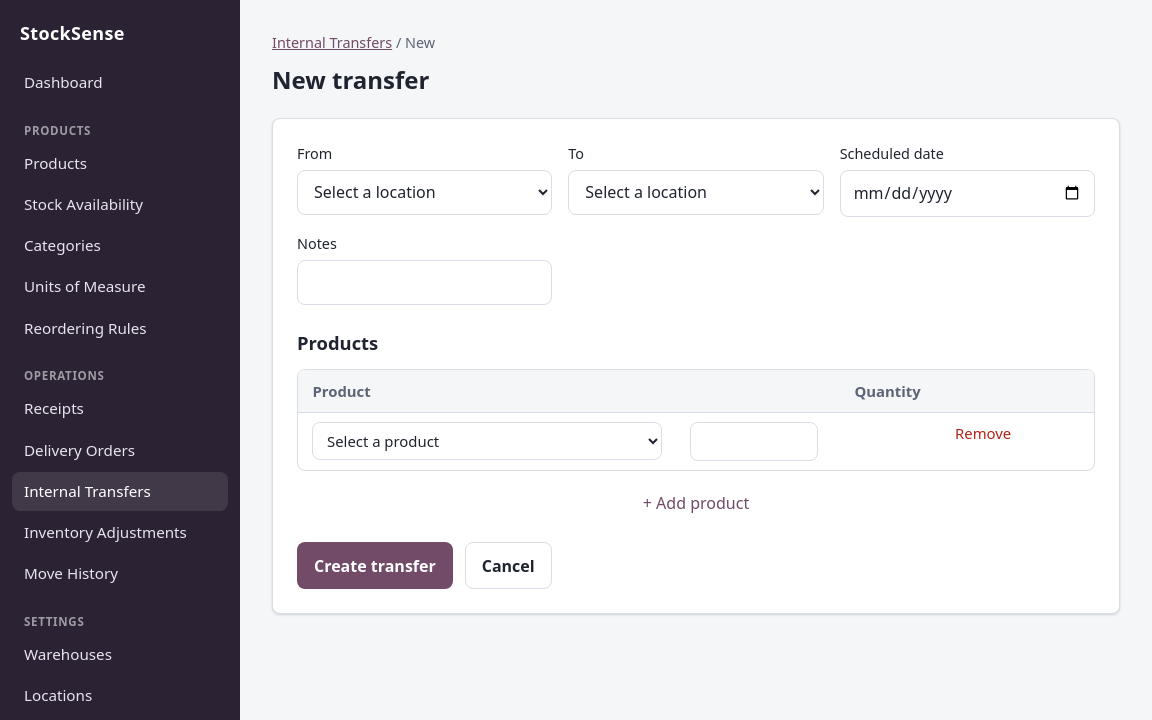
Test: transfers and adjustments › rejects the same source and destination
The image size is (1152, 720).
Select "WH-MAIN / Rack A" in the dropdown labelled "From" at {"x": 425, "y": 192}, box [297,170,552,215]
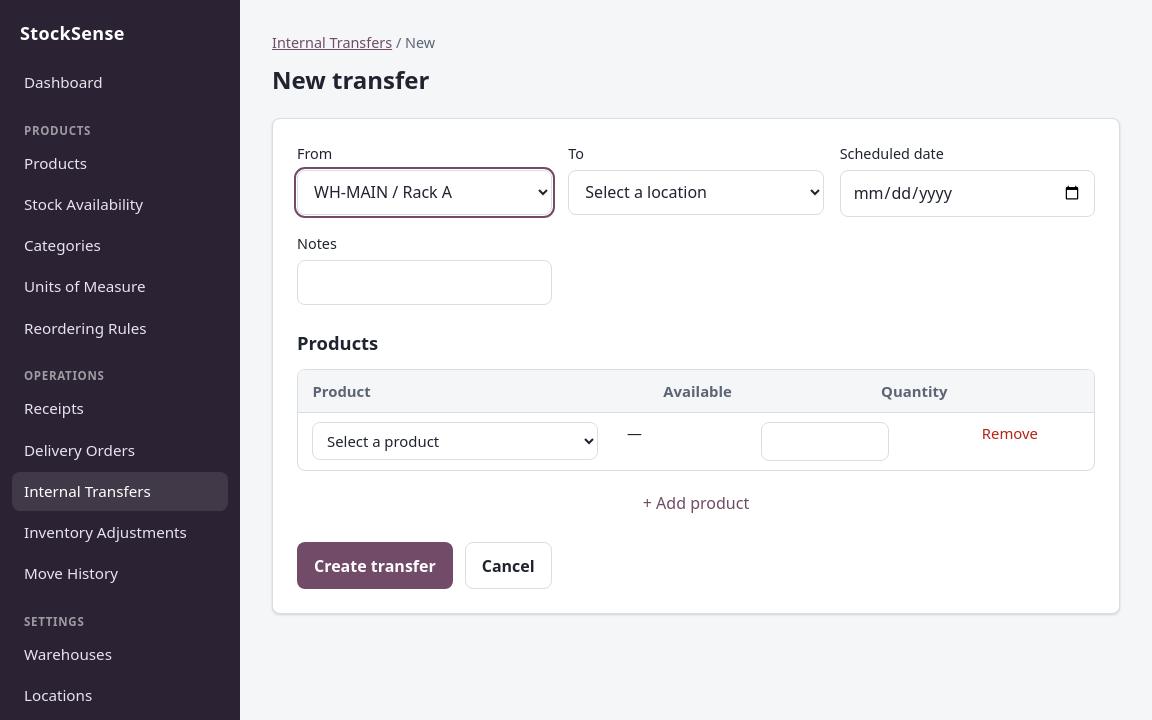
Select "WH-MAIN / Rack A" in the dropdown labelled "To" at {"x": 696, "y": 192}, box [568,170,824,215]
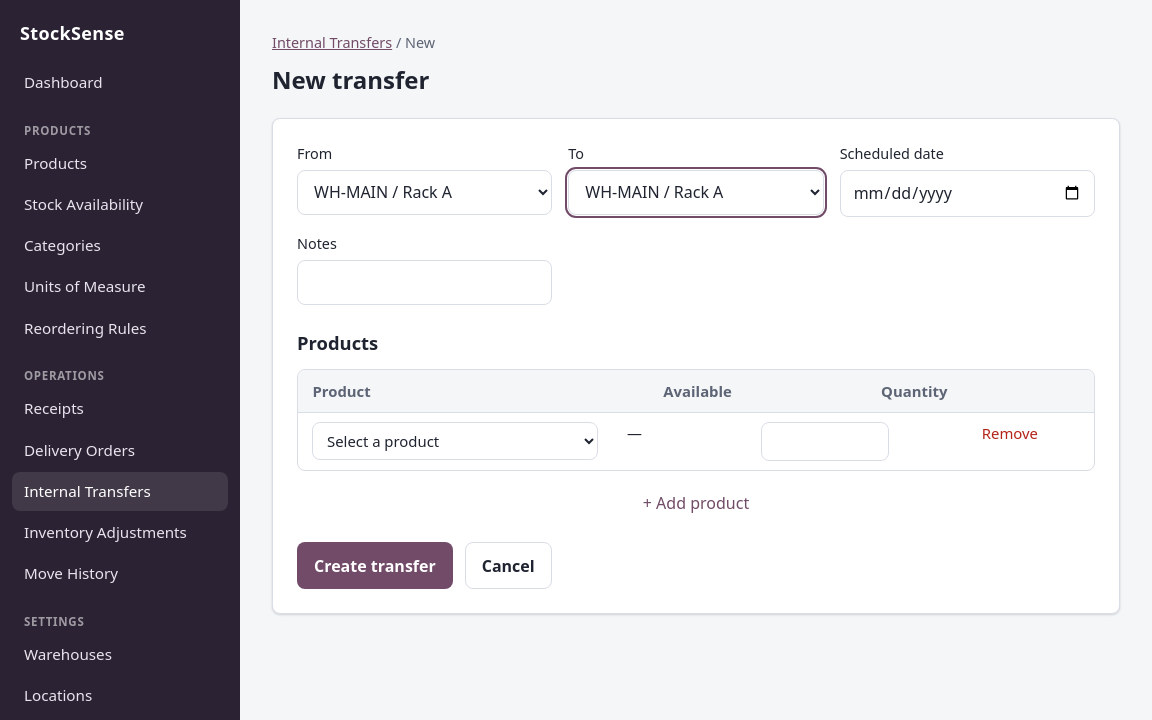
Select "Steel Rods (STL-ROD)" in the dropdown named "Product for line 1" at {"x": 455, "y": 441}, box [312,422,598,460]
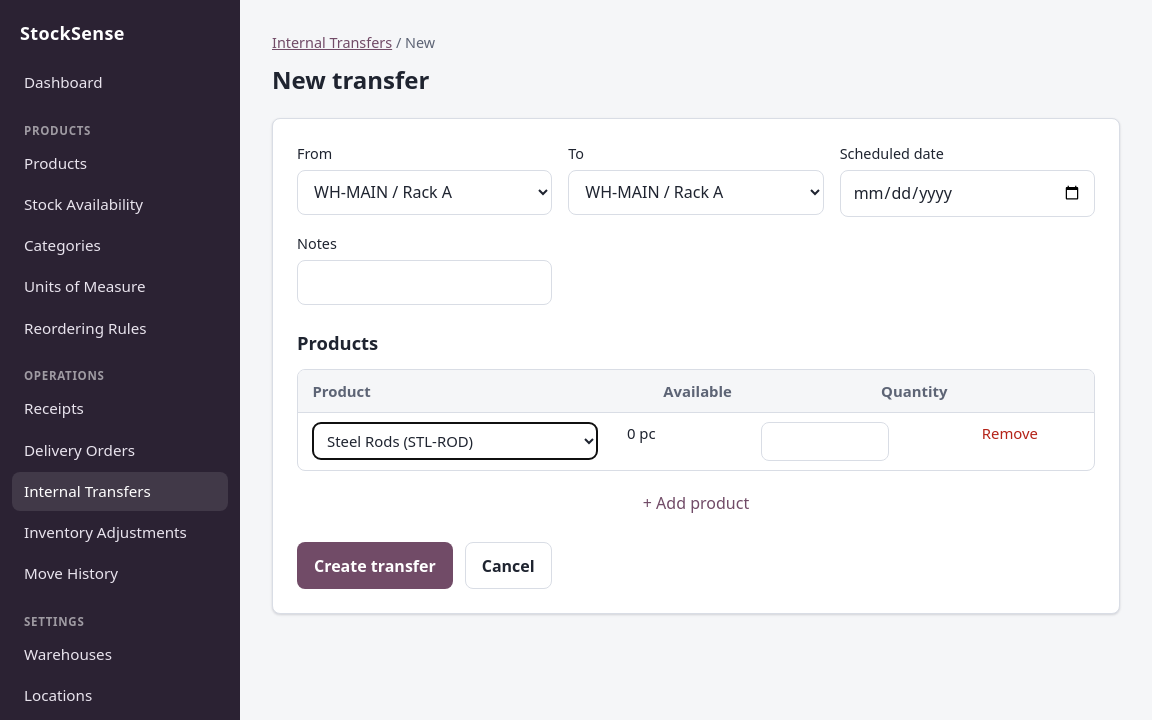
Type "1" into the field named "Quantity for line 1".
click(825, 441); type("1")  # box [761,422,889,461]
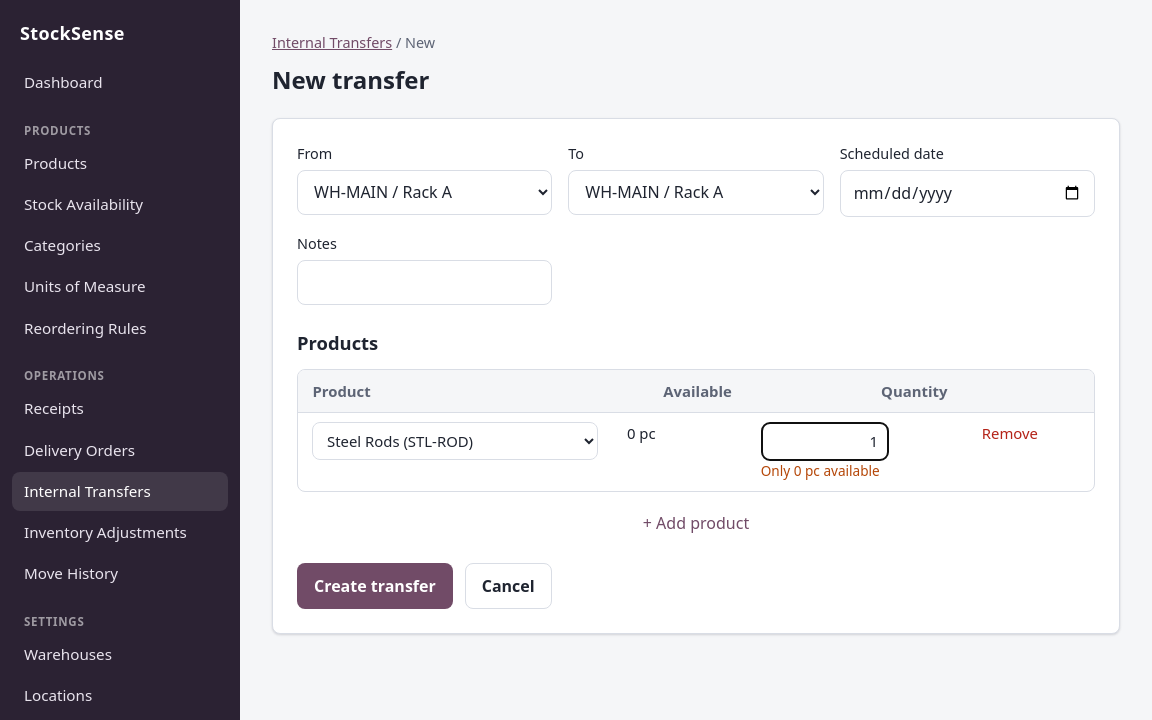
Click the button "Create transfer".
click(375, 586)  # box [297,562,453,609]
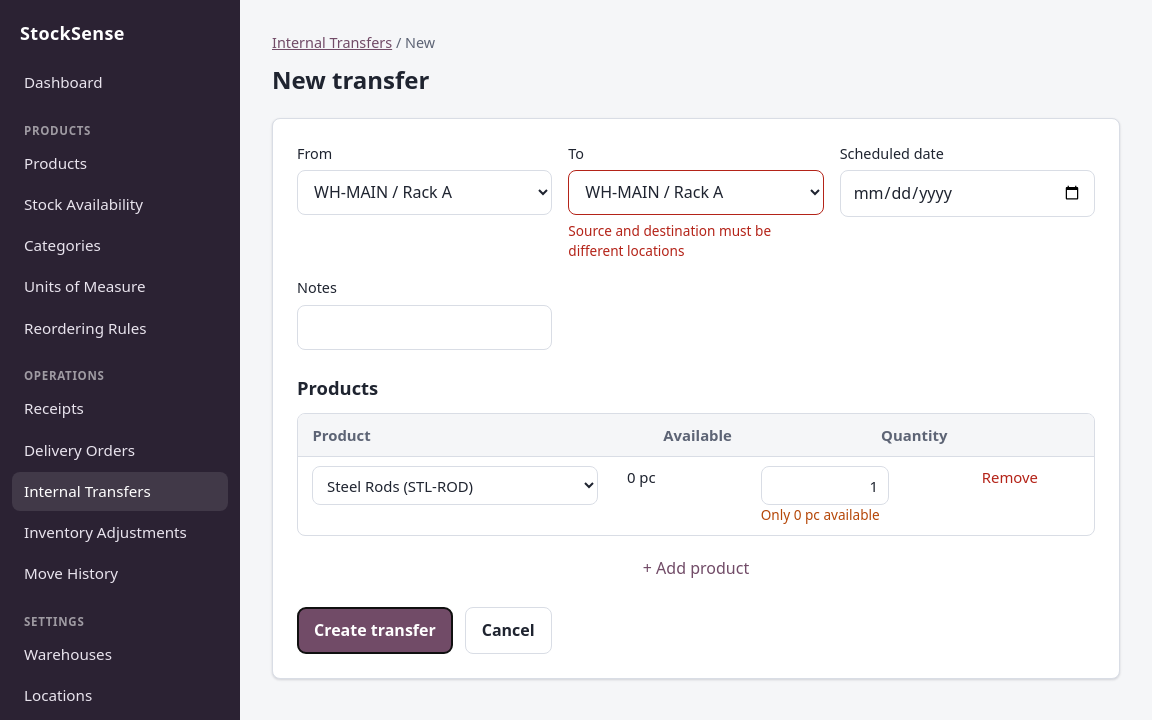
expect the text "Source and destination must be different locations" is shown: met, box [568,221,771,260]
